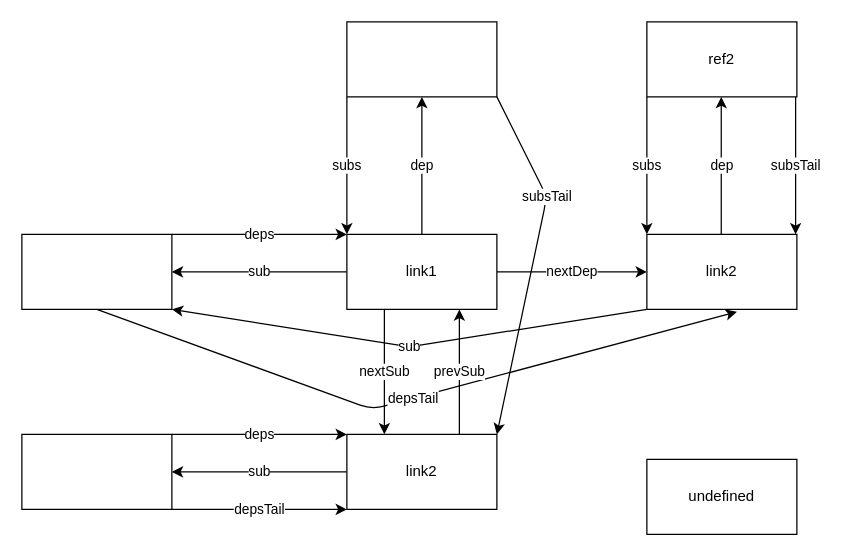
This 843x556 diagram has some shape labels left out. The box of each missing label's shape, as (x1, y1, x2, y2) in pixels:
effect1: (21, 233, 172, 309)
effect2: (21, 433, 172, 509)
ref1: (346, 21, 497, 97)
